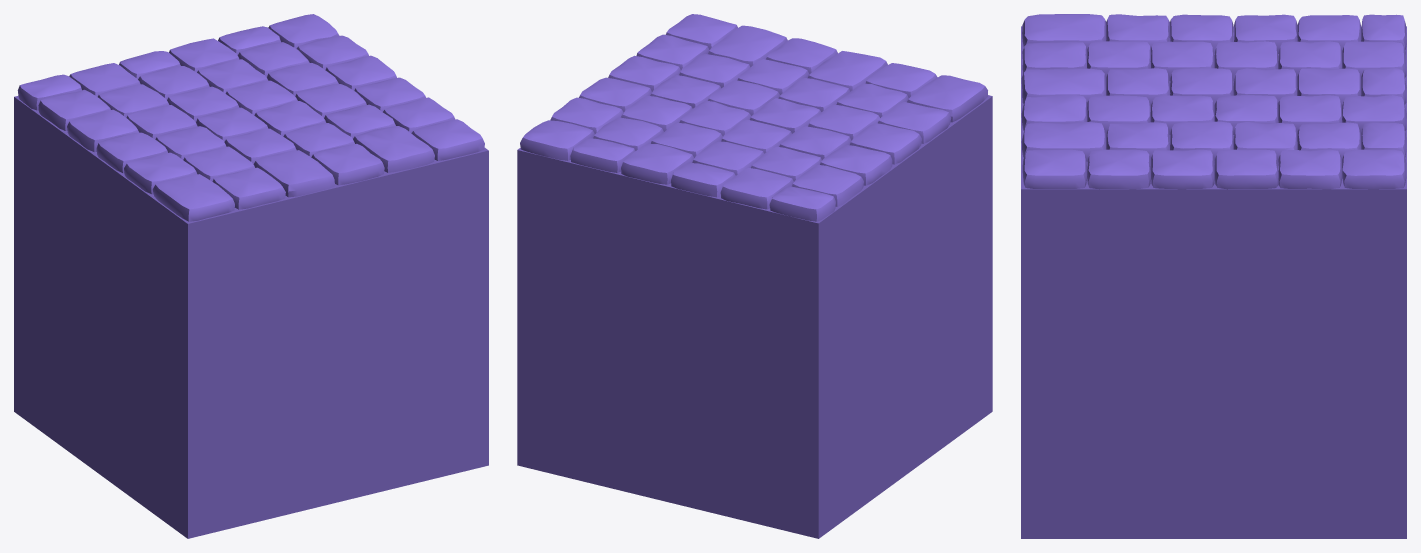
The model's file is Tiles.fbx.
3 views of the same model, side by side, from view 1: azimuth 30°, elevation 25°; view 2: azimuth 150°, elevation 25°; view 3: azimuth 270°, elevation 25° (orthographic). The views are drawn at different scales.
Visible parts, largest first — view 1: Cube.035; view 2: Cube.035; view 3: Cube.035.
Part boxes in pixels (box(x1,y1,x2,y2)): Cube.035: box(14, 14, 488, 538); Cube.035: box(517, 14, 992, 538); Cube.035: box(1021, 14, 1406, 538).
Size of the model in its own units: 601 by 627 by 600.
